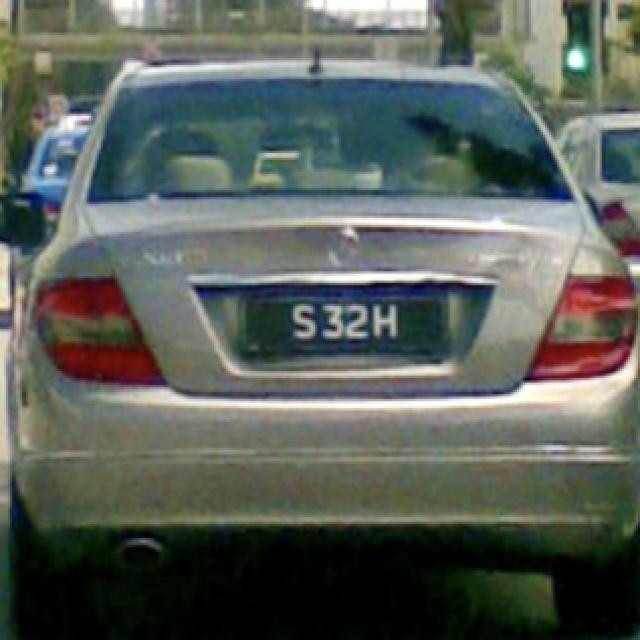license_plate: (242, 290, 460, 366)
